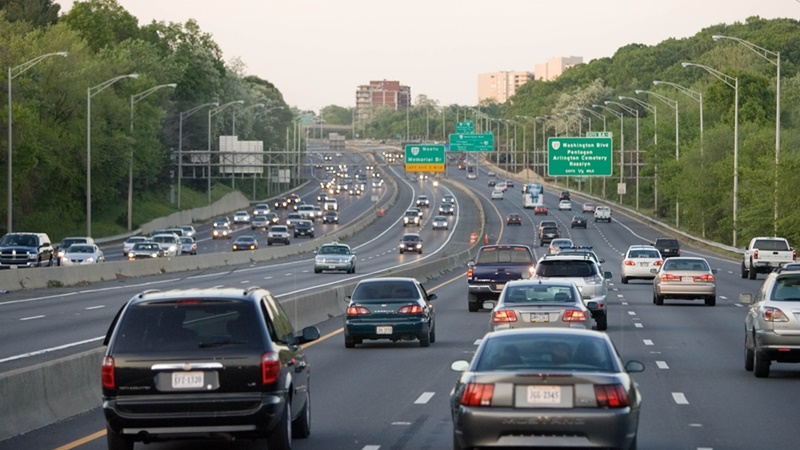Car: (112, 291, 315, 440), (453, 335, 643, 445), (344, 280, 438, 338), (747, 271, 800, 373), (494, 280, 589, 332), (532, 260, 607, 323), (471, 245, 539, 304), (657, 259, 715, 303), (1, 231, 52, 268), (744, 239, 792, 272), (313, 242, 357, 270), (622, 246, 663, 276), (63, 246, 104, 267), (125, 244, 163, 263), (398, 232, 421, 254), (656, 239, 679, 260), (231, 234, 258, 250), (268, 226, 289, 246), (540, 227, 560, 244), (293, 220, 313, 237), (321, 210, 339, 225), (401, 211, 421, 224), (595, 206, 612, 221), (430, 216, 449, 229), (504, 214, 522, 226), (440, 203, 455, 216), (572, 216, 589, 227), (232, 211, 249, 222), (252, 203, 269, 214), (531, 206, 549, 216), (416, 196, 430, 207), (491, 190, 504, 200)
